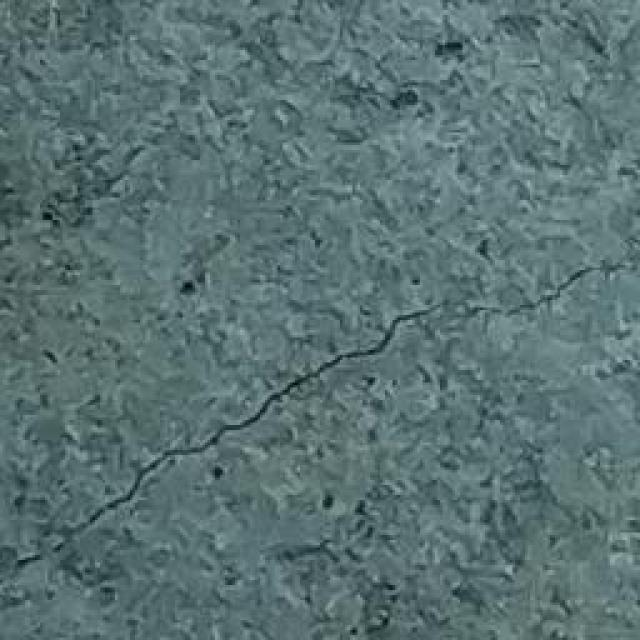Diagonal: (17, 240, 640, 572)
